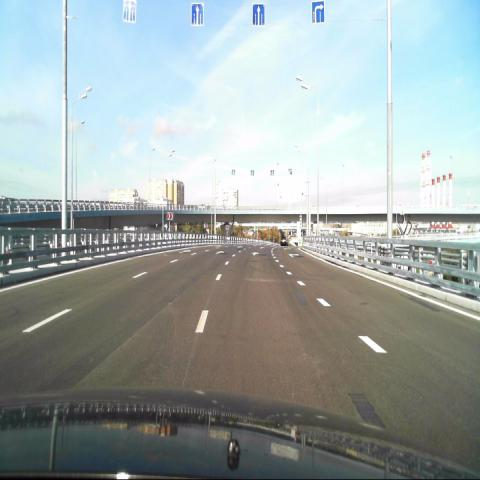5_15_2: (252, 3, 265, 27)
